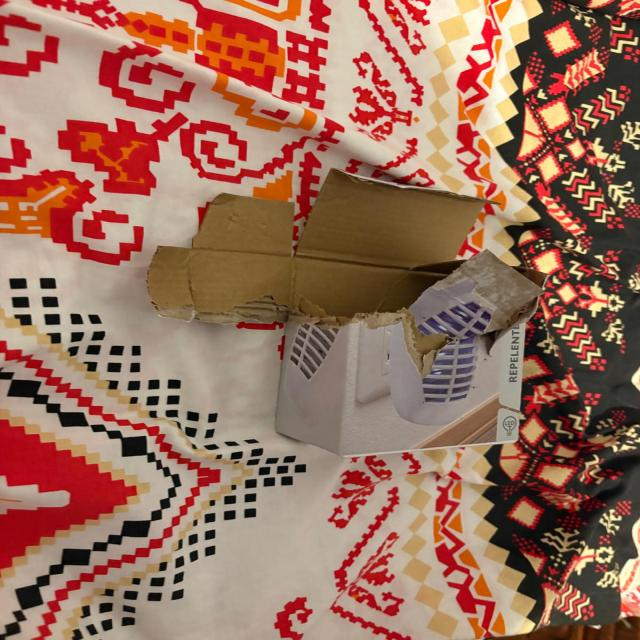damaged_package: (143, 168, 549, 454)
